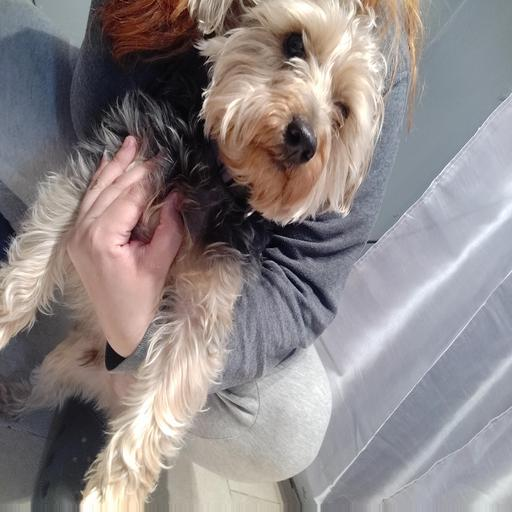dog: (202, 1, 417, 216)
